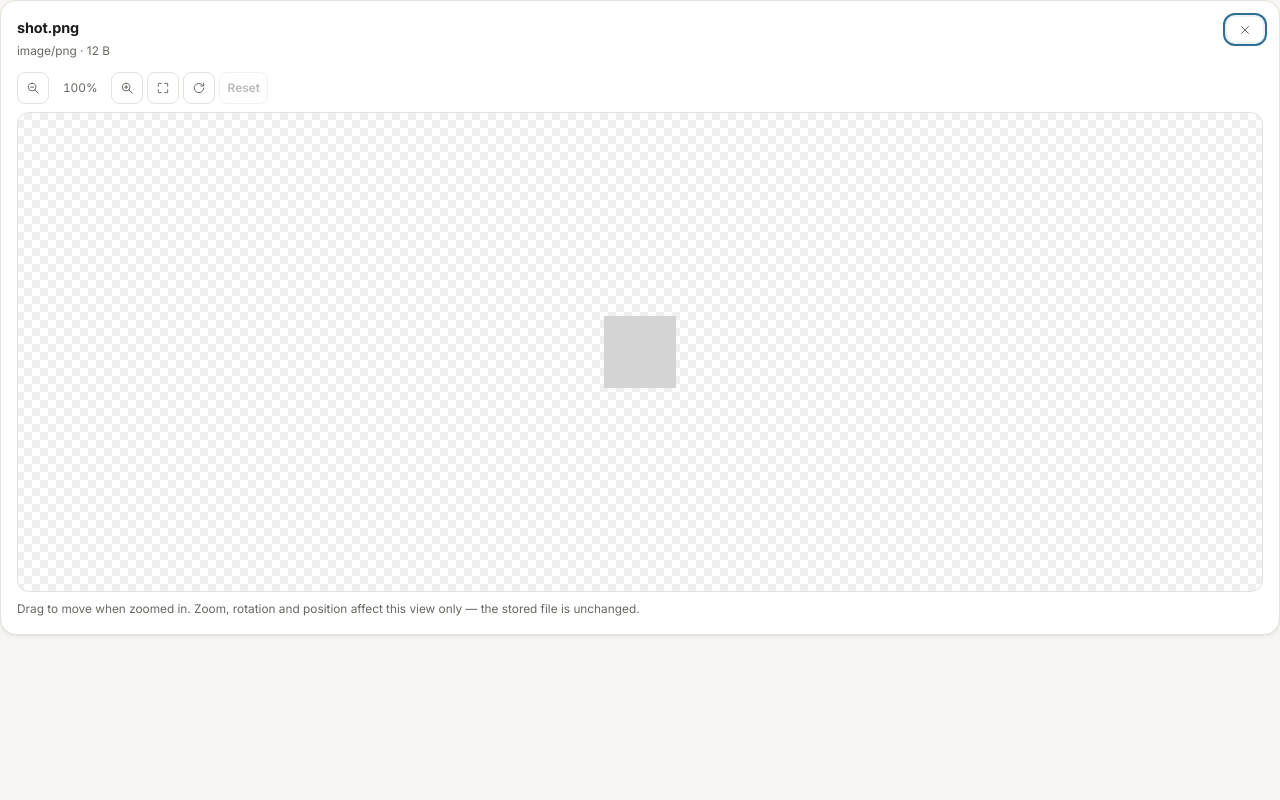
FileInspector › image inspection › zooms the picture without touching the stored file
Click the button named "zoom in".
click(127, 88)  # box [111, 72, 143, 104]
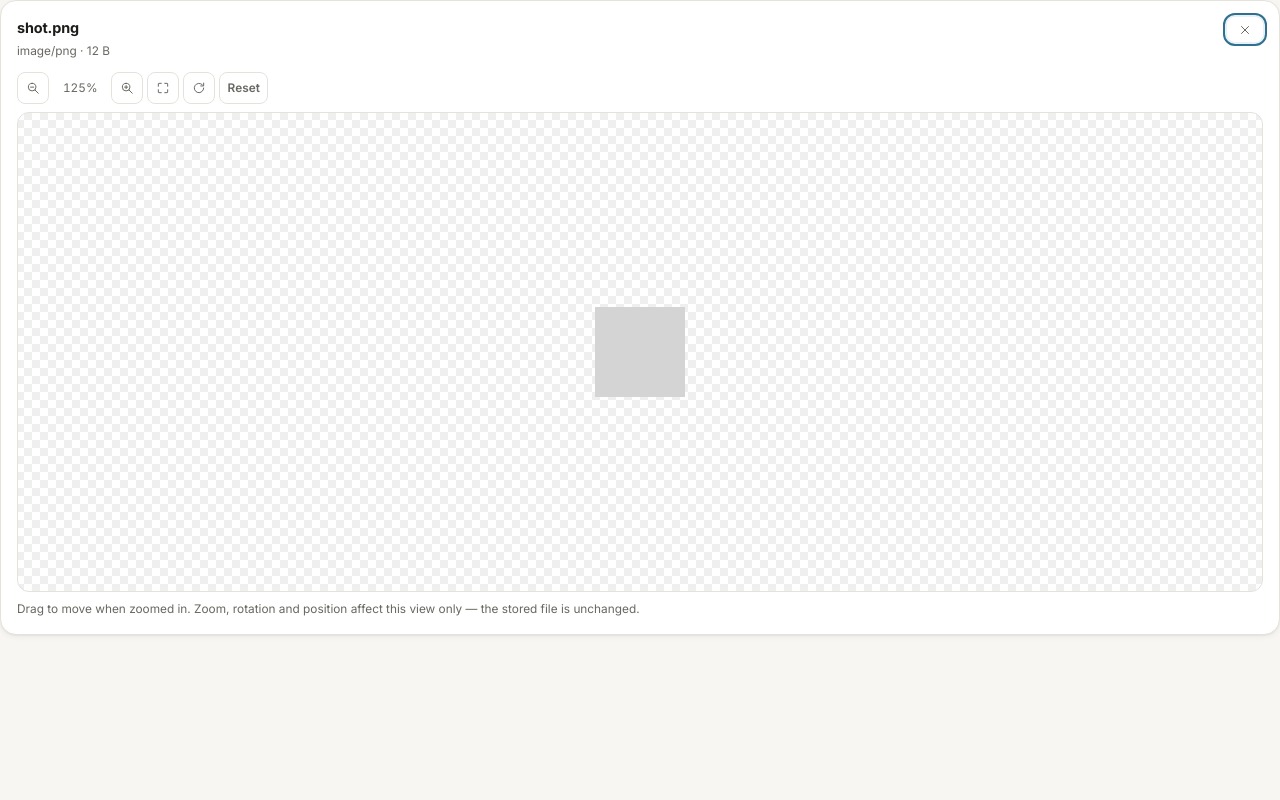
Expected: the text "125%" is shown, [63, 81, 98, 95]
